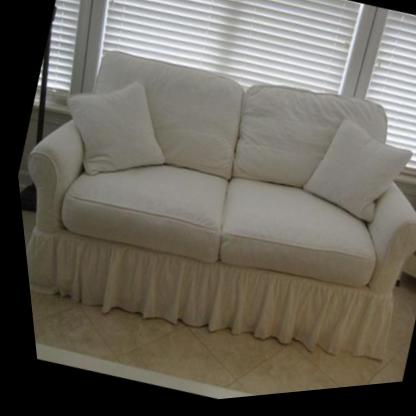Sofa: (3, 5, 416, 398)
